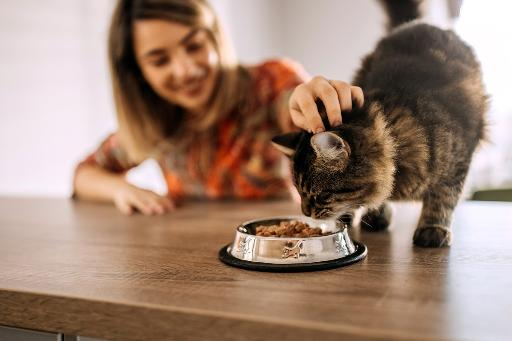cat_eating: (219, 0, 487, 271)
